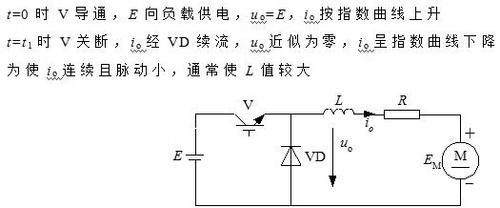diode: (280, 141, 303, 171)
inductance: (316, 104, 358, 120)
power2: (184, 152, 206, 164)
res1: (381, 108, 422, 122)
triode: (230, 110, 270, 135)
